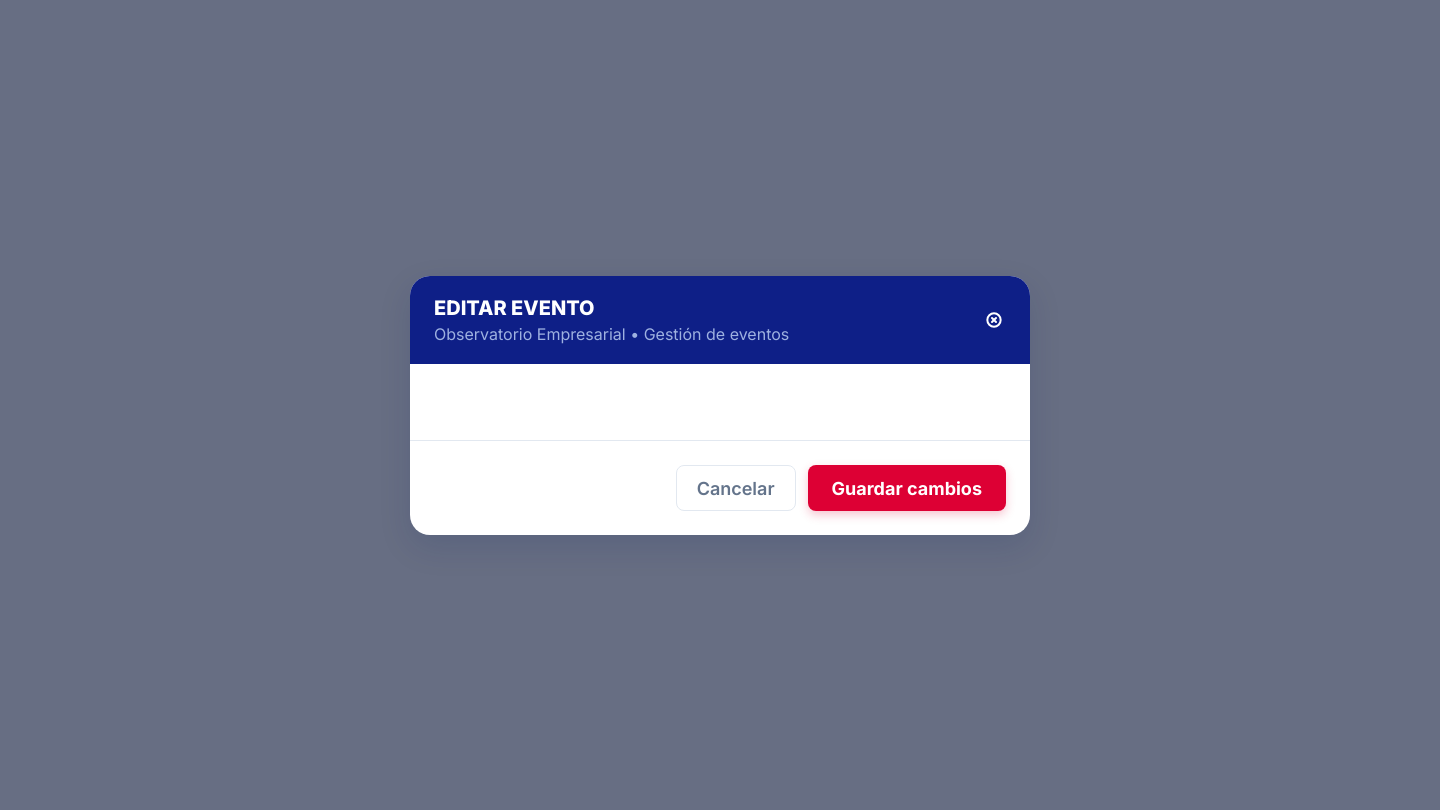
FormularioCrud › al editar pide confirmación antes de guardar
Click the button "Guardar cambios".
click(907, 488)  # box x1=808 y1=464 x2=1006 y2=510
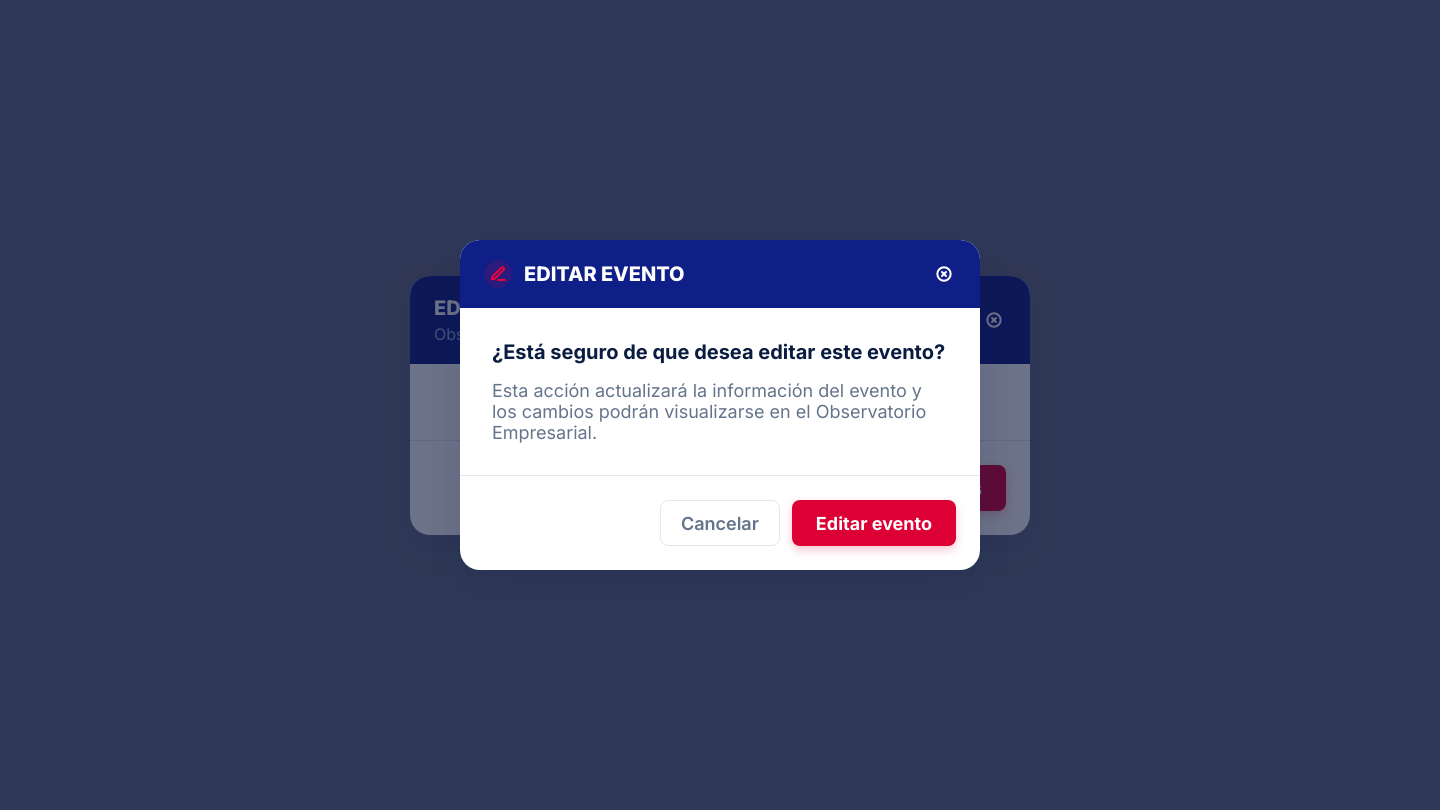
Check: the text "¿Está seguro de que desea editar este evento?" is shown, box x1=492 y1=340 x2=948 y2=364
Click the button "Editar evento".
click(874, 523)  # box x1=792 y1=500 x2=956 y2=546
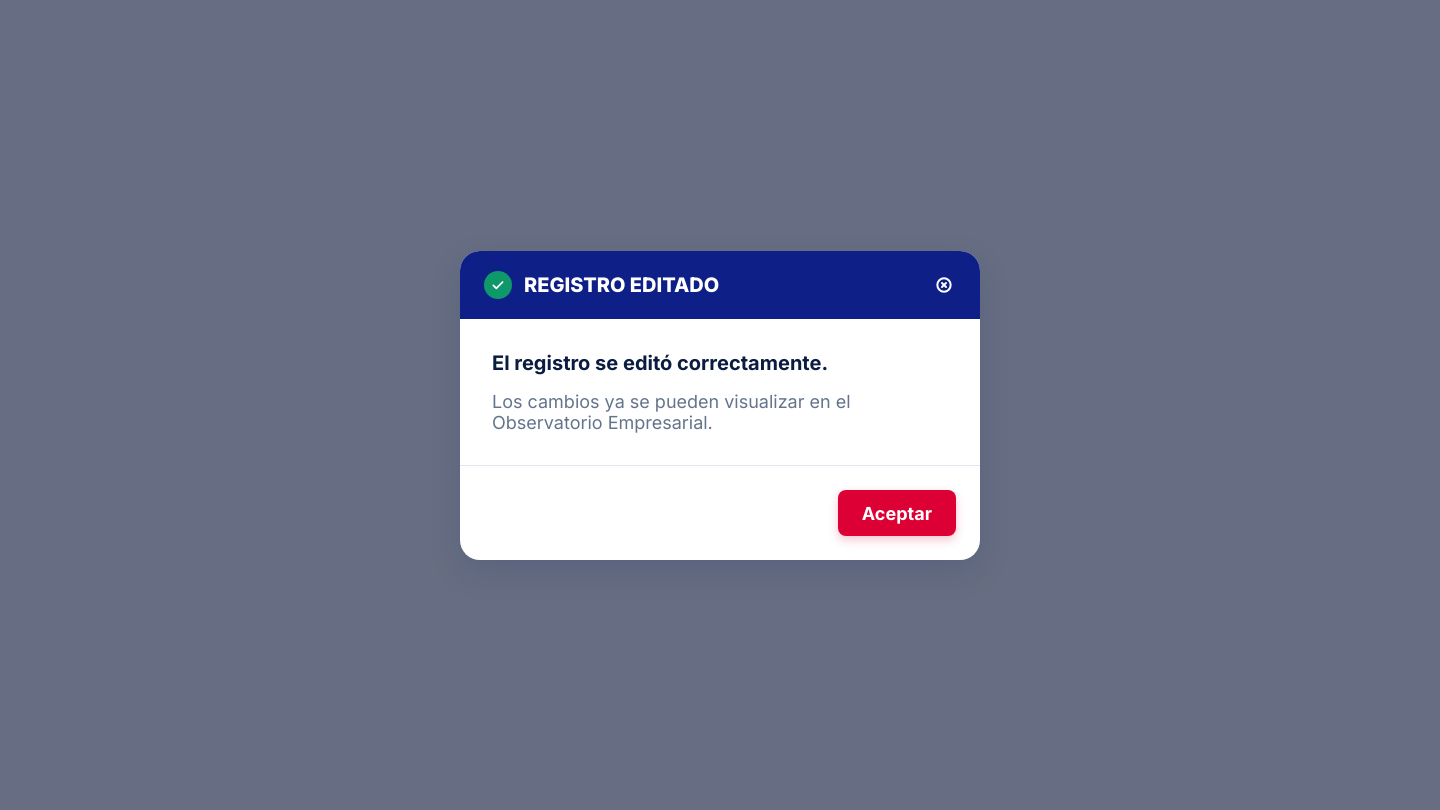
Check: the text "El registro se editó correctamente." is shown, box x1=492 y1=350 x2=828 y2=374
